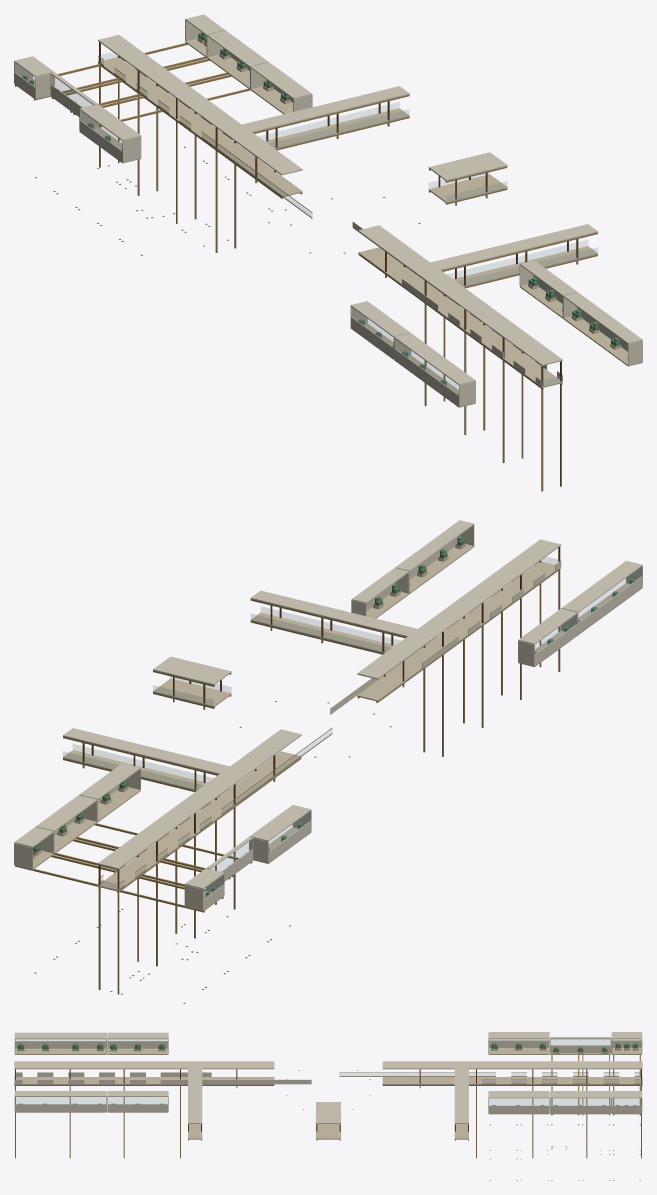
The model's file is D04_PORT_CENTRAL_COMBINEDSTRUCTURE_r001.glb.
3 views of the same model, one above another, from view 1: azimuth 30°, elevation 25°; view 2: azimuth 150°, elevation 25°; view 3: azimuth 270°, elevation 25° (orthographic). The views are drawn at different scales.
Parts seen in each view (by area): view 1: PC_ReceivingRoof_0, PC_ReceivingRoof_1, PC_ReceivingFloor_0, PC_ReceivingFloor_1, PC_ReceivingRoof_2, PCK_D04HC5_west_Roof, PC_ReceivingFloor_2, PCK_D04HC5_east_Roof, PCK_D04HC_east_Roof, PCK_D04HC_west_Roof, PCK_D04HC2_east_Roof, PC_ArrivalGuard-30.3 (+7 smaller); view 2: PC_ReceivingRoof_1, PC_ReceivingRoof_0, PC_ReceivingFloor_0, PC_ReceivingFloor_1, PC_ReceivingRoof_2, PCK_D04HC5_west_Roof, PC_ReceivingFloor_2, PCK_D04HC5_east_Roof, PCK_D04HC_west_Roof, PCK_D04HC2_east_Roof, PCK_D04HC_east_Roof, PC_ArrivalGuard30.3 (+7 smaller); view 3: PC_ReceivingRoof_0, PC_ReceivingRoof_1, PC_ReceivingFloor_0, PC_ReceivingFloor_1, PCK_D04H4_D04NR_EastGuard_0_Successor_0, PCK_D04HC5_west_Roof, PCK_D04HC5_east_PrivacyScreen, PCK_D04HC5_east_GlassUpper, PCK_D04HC5_west_PrivacyScreen, PCK_D04HC5_west_Floor, PCK_D04HC5_east_Roof, PCK_D04HC_east_PrivacyScreen (+25 smaller).
Part boxes in pixels (bbox=[...]): PC_ReceivingRoof_0: bbox=[98, 34, 409, 175]; PC_ReceivingRoof_1: bbox=[358, 224, 597, 365]; PC_ReceivingFloor_0: bbox=[98, 57, 409, 197]; PC_ReceivingFloor_1: bbox=[358, 246, 597, 387]; PC_ReceivingRoof_2: bbox=[428, 152, 507, 181]; PCK_D04HC5_west_Roof: bbox=[394, 333, 475, 385]; PC_ReceivingFloor_2: bbox=[428, 174, 507, 203]; PCK_D04HC5_east_Roof: bbox=[563, 292, 642, 343]; PCK_D04HC_east_Roof: bbox=[250, 62, 312, 99]; PCK_D04HC_west_Roof: bbox=[79, 104, 141, 140]; PCK_D04HC2_east_Roof: bbox=[207, 30, 268, 67]; PC_ArrivalGuard-30.3: bbox=[269, 109, 409, 147]; PC_ReceivingRoof_1: bbox=[250, 539, 561, 679]; PC_ReceivingRoof_0: bbox=[63, 728, 301, 869]; PC_ReceivingFloor_0: bbox=[63, 750, 301, 891]; PC_ReceivingFloor_1: bbox=[250, 561, 561, 701]; PC_ReceivingRoof_2: bbox=[153, 656, 231, 685]; PCK_D04HC5_west_Roof: bbox=[561, 560, 642, 612]; PC_ReceivingFloor_2: bbox=[153, 678, 231, 707]; PCK_D04HC5_east_Roof: bbox=[395, 520, 474, 571]; PCK_D04HC_west_Roof: bbox=[250, 805, 311, 841]; PCK_D04HC2_east_Roof: bbox=[36, 795, 97, 831]; PCK_D04HC_east_Roof: bbox=[79, 763, 140, 799]; PC_ArrivalGuard30.3: bbox=[251, 614, 390, 652]; PC_ReceivingRoof_0: bbox=[382, 1061, 642, 1123]; PC_ReceivingRoof_1: bbox=[14, 1061, 274, 1123]; PC_ReceivingFloor_0: bbox=[382, 1077, 642, 1139]; PC_ReceivingFloor_1: bbox=[14, 1077, 274, 1139]; PCK_D04H4_D04NR_EastGuard_0_Successor_0: bbox=[160, 1079, 311, 1084]; PCK_D04HC5_west_Roof: bbox=[15, 1032, 106, 1039]; PCK_D04HC5_east_PrivacyScreen: bbox=[15, 1104, 106, 1111]; PCK_D04HC5_east_GlassUpper: bbox=[15, 1097, 105, 1103]; PCK_D04HC5_west_PrivacyScreen: bbox=[15, 1041, 106, 1048]; PCK_D04HC5_west_Floor: bbox=[15, 1048, 106, 1054]; PCK_D04HC5_east_Roof: bbox=[15, 1091, 106, 1096]; PCK_D04HC_east_PrivacyScreen: bbox=[488, 1105, 549, 1113].
Bounding box in the file's own units: 51.6 × 24.14 × 151.
7 materials, 4 textured.
